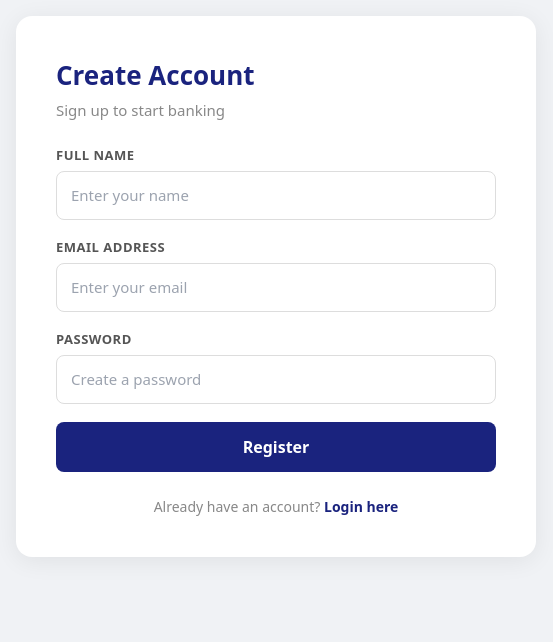
Test: RegisterPage › submits form - registration failure shows error
Type "Mary Anger" into the field with placeholder "Enter your name".
click(276, 195); type("Mary Anger")  # box [56, 171, 496, 220]
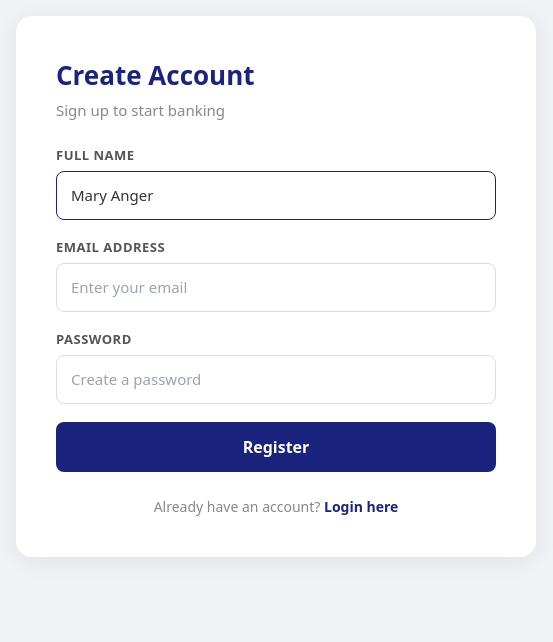
Type "mary@example.com" into the field with placeholder "Enter your email".
click(276, 287); type("mary@example.com")  # box [56, 263, 496, 312]
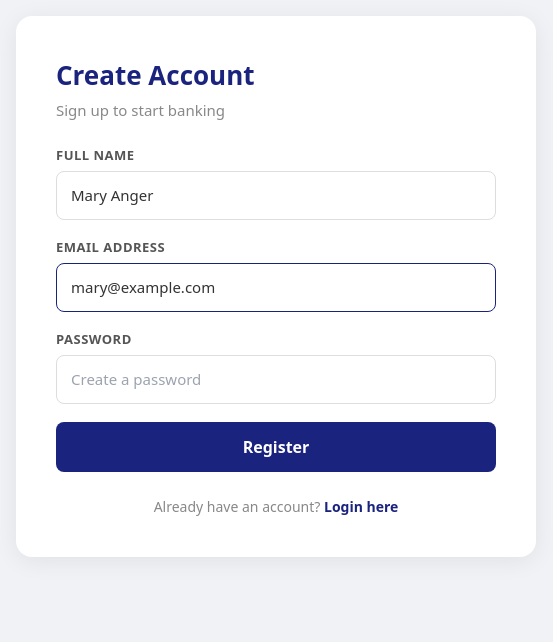
Type "123456" into the password field with placeholder "Create a password".
click(276, 379); type("123456")  # box [56, 355, 496, 404]
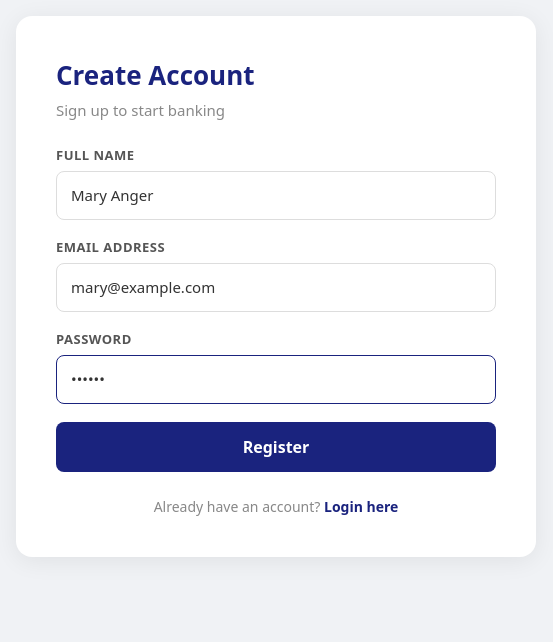
Click the button "Register".
click(276, 446)  # box [56, 422, 496, 472]
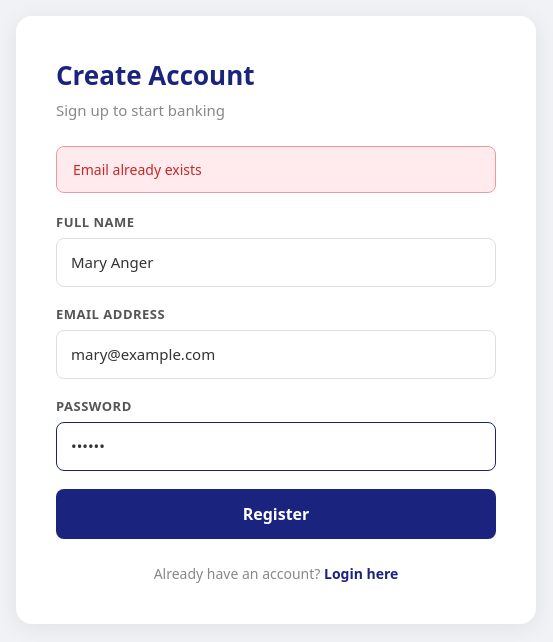
Expected: the text "Email already exists" is shown, [56, 146, 496, 192]
